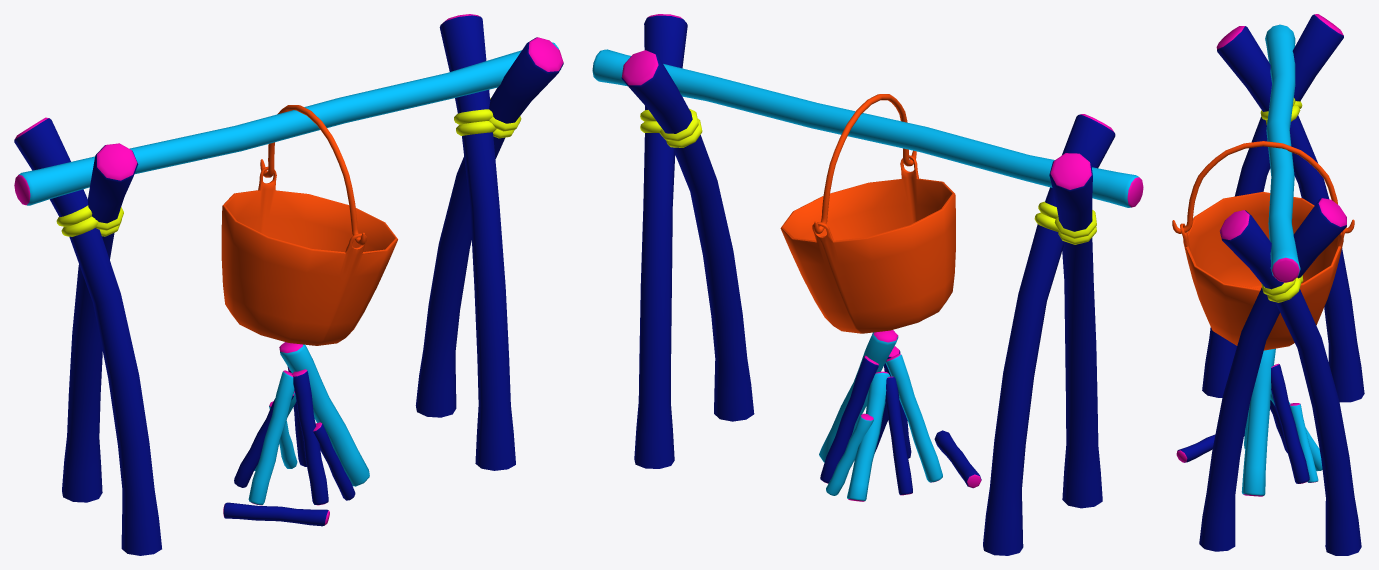
File: SM_Campfire.FBX
The picture shows the model from 3 angles, left to right: view 1: azimuth 30°, elevation 25°; view 2: azimuth 150°, elevation 25°; view 3: azimuth 270°, elevation 25°; orthographic projection. The views are drawn at different scales.
Parts seen in each view (by area): view 1: Object006; view 2: Object006; view 3: Object006.
Boxes of the visible parts, x1,y1,x2,y2 form: Object006: (14, 14, 563, 555); Object006: (592, 14, 1143, 555); Object006: (1172, 14, 1364, 555).
Size of the model in its own units: 427 by 307 by 148.
